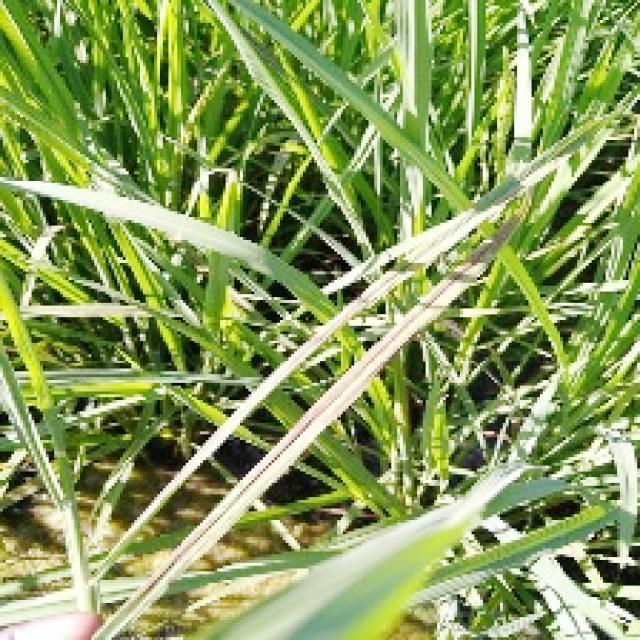-: (0, 0, 469, 223)
